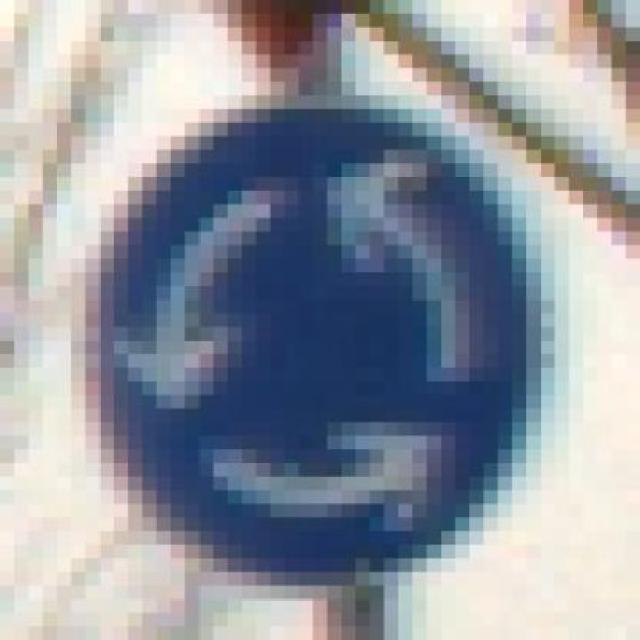Round-About: (56, 82, 598, 600)
